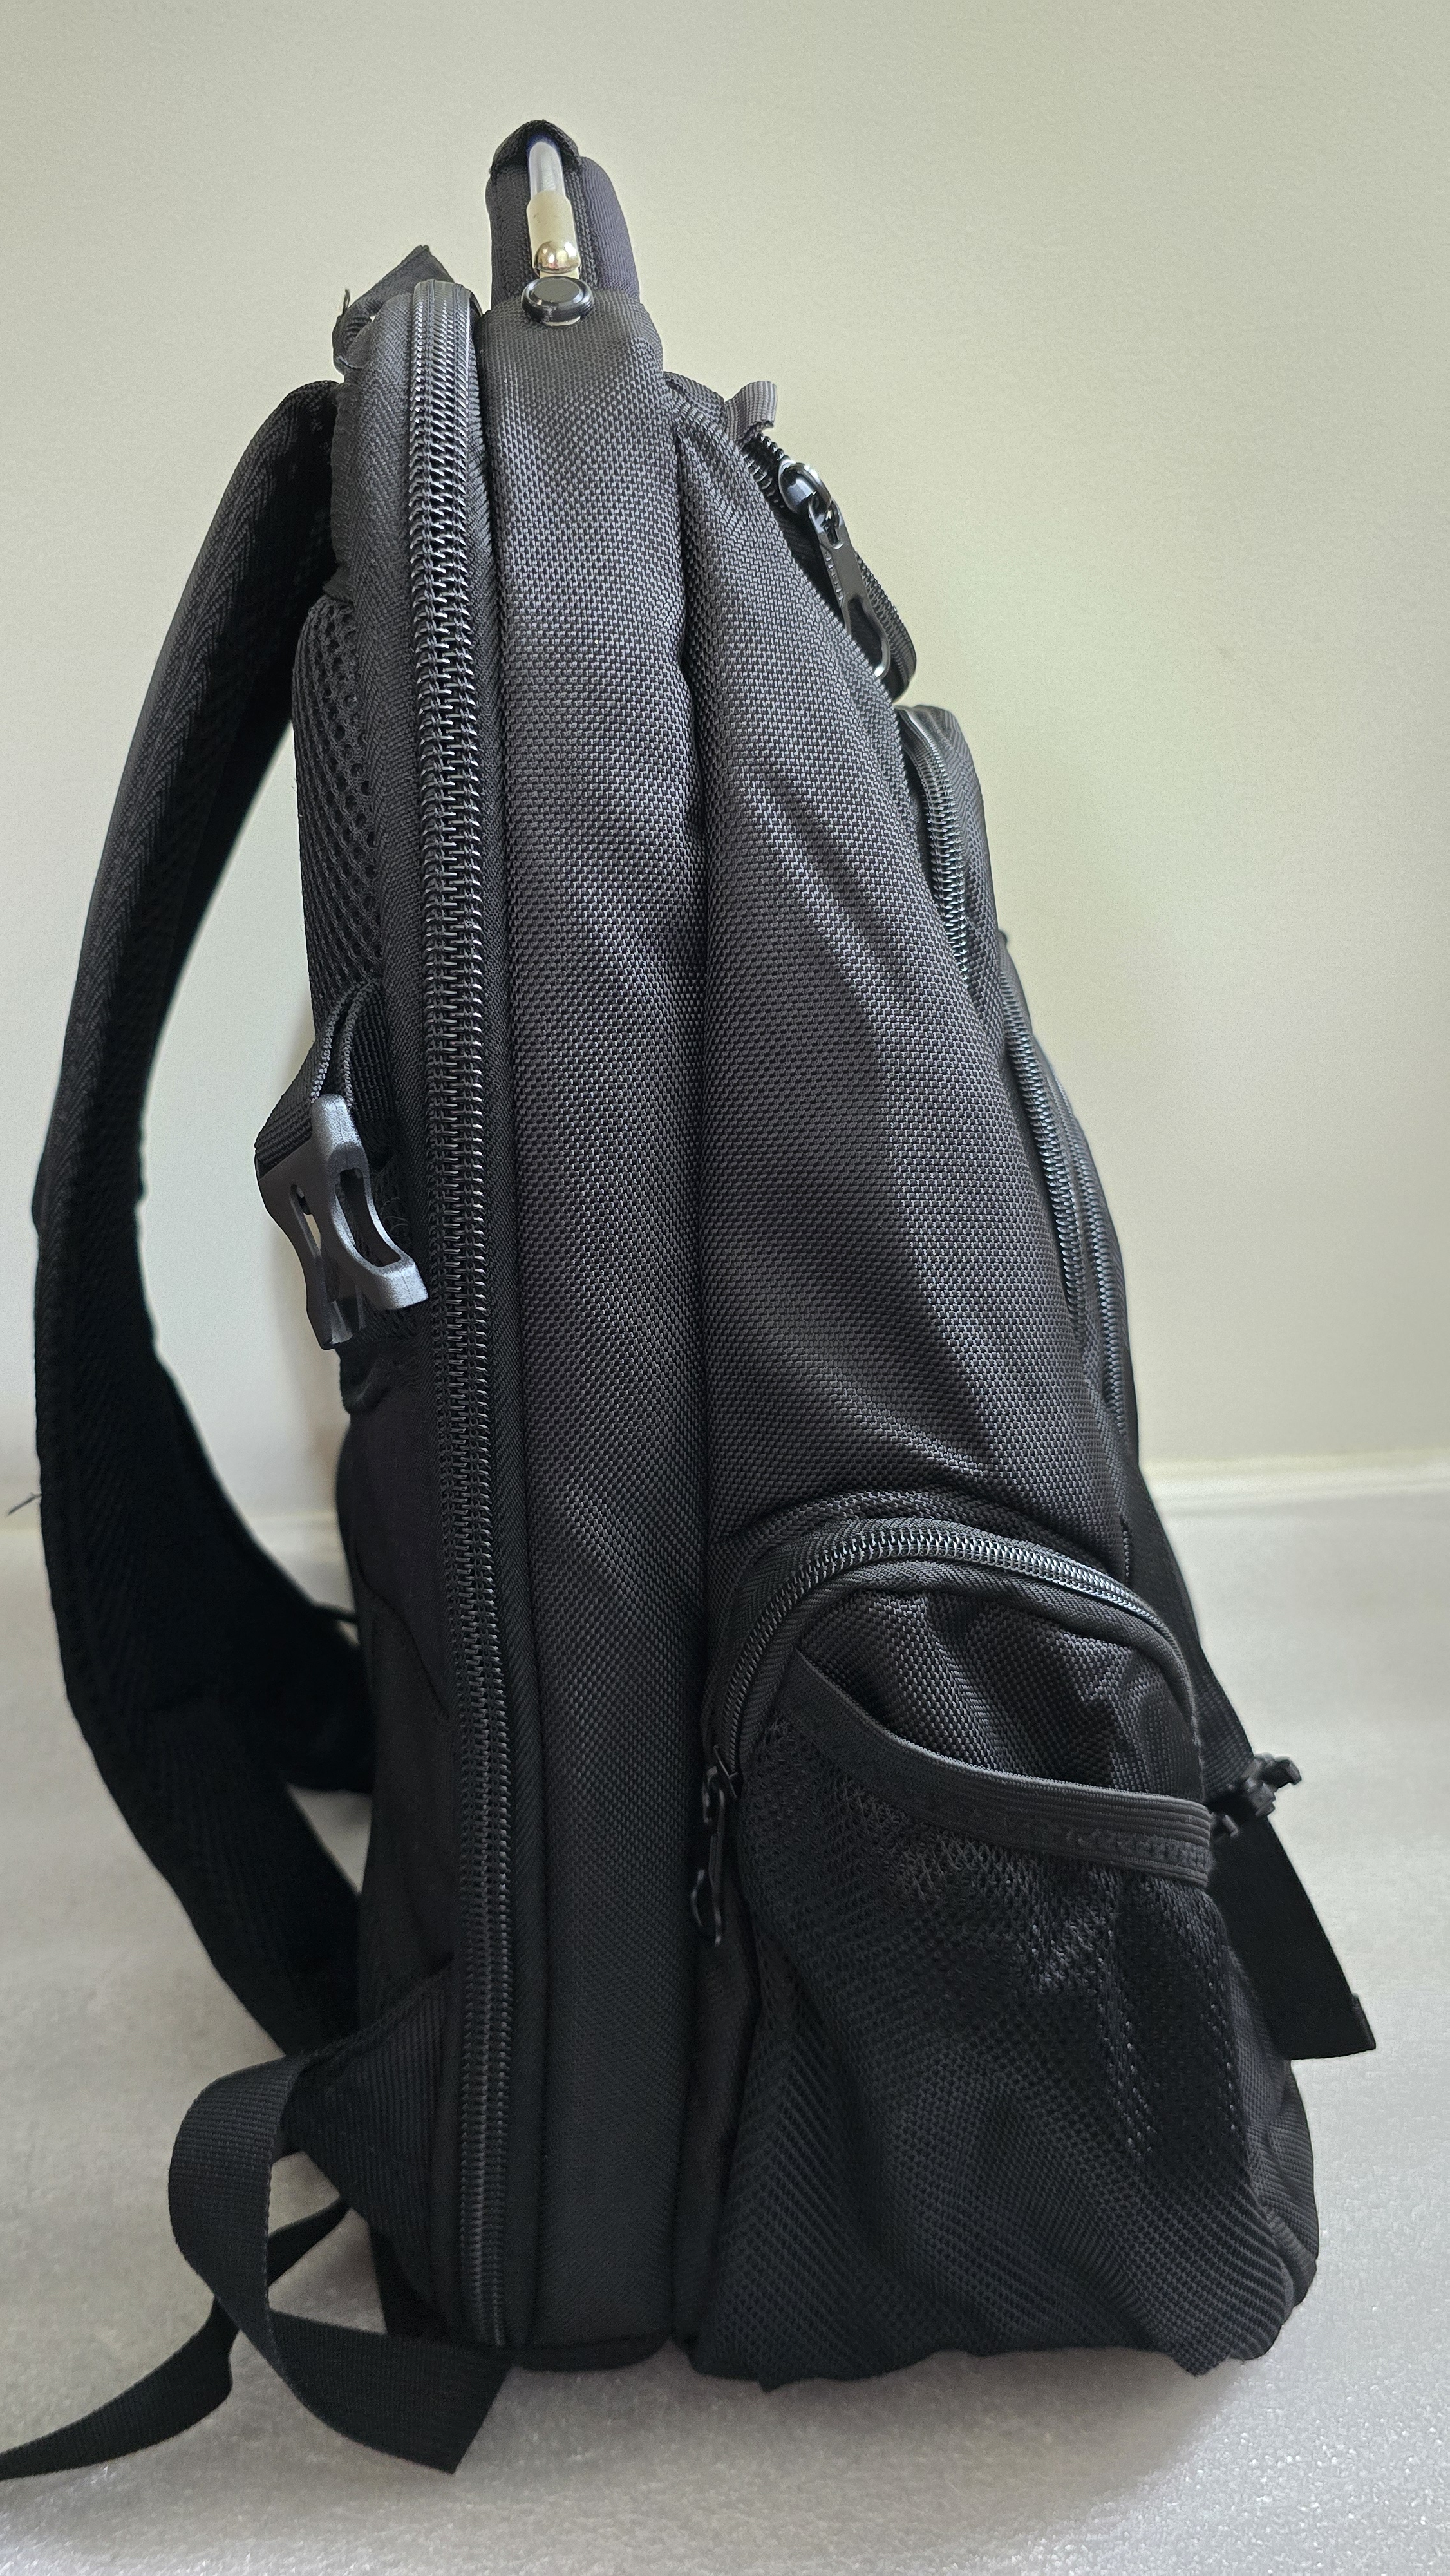bag: (34, 69, 1372, 2450)
